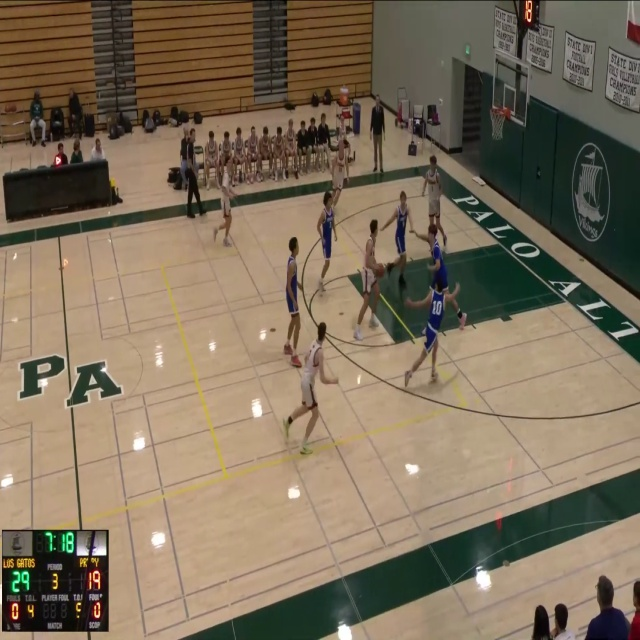Basketball: (374, 264, 384, 277)
